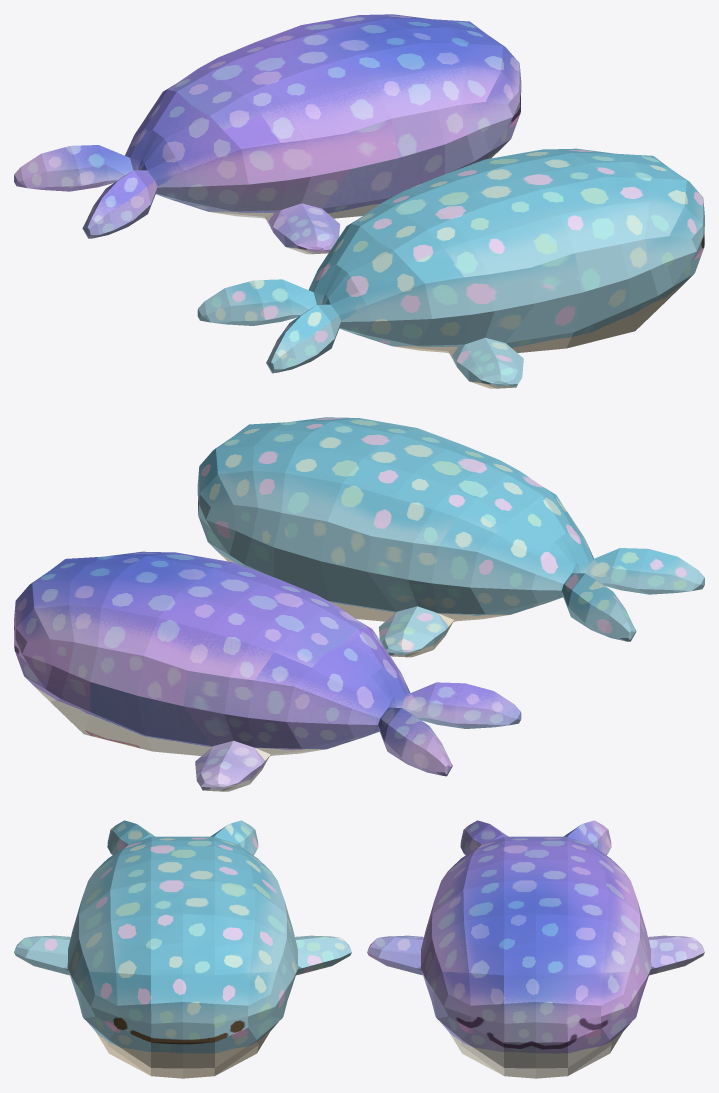
File: Plushie Whales2.fbx
The picture shows the model from 3 angles, top to bottom: view 1: azimuth 30°, elevation 25°; view 2: azimuth 150°, elevation 25°; view 3: azimuth 270°, elevation 25°; orthographic projection. The views are drawn at different scales.
Visible parts, largest first — view 1: whale, whale2; view 2: whale2, whale; view 3: whale, whale2.
Boxes of the visible parts, x1,y1,x2,y2 form: whale: (197,148,704,388); whale2: (14,14,521,254); whale2: (14,551,521,791); whale: (197,417,704,657); whale: (14,820,351,1078); whale2: (367,820,704,1078).
Bounding box in the file's own units: 992 × 336 × 1352.
Materials: 2 (2 with a texture image).
